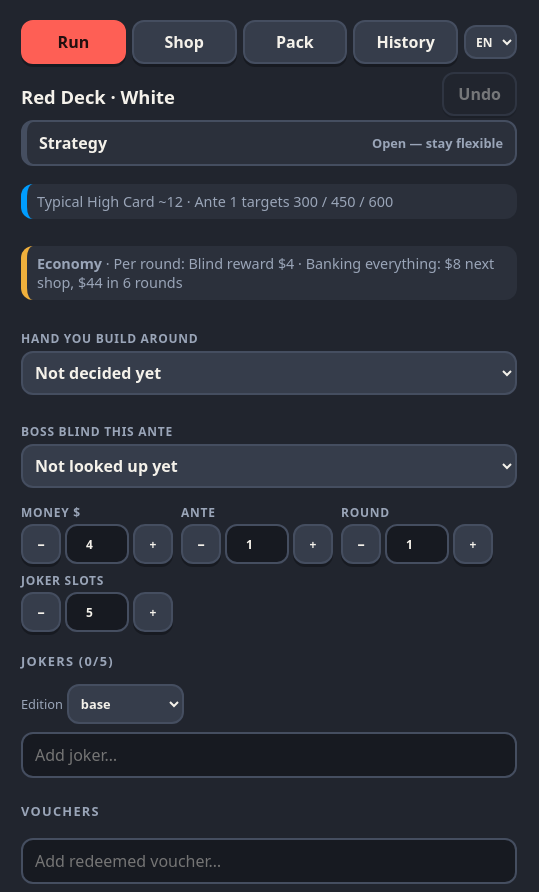
Test: disables purchases that would overdraw the run
This screenshot has width=539, height=892.
Click the button "Shop" at {"x": 184, "y": 42}, box 132,20 -> 237,64
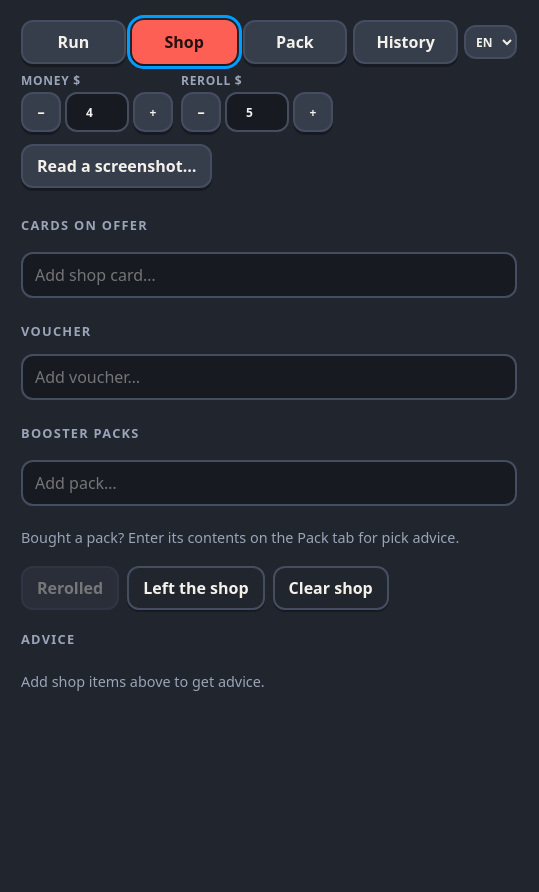
Type "blueprint" into the dropdown with placeholder "Add shop card…" at {"x": 269, "y": 275}, box 21,252 -> 517,298
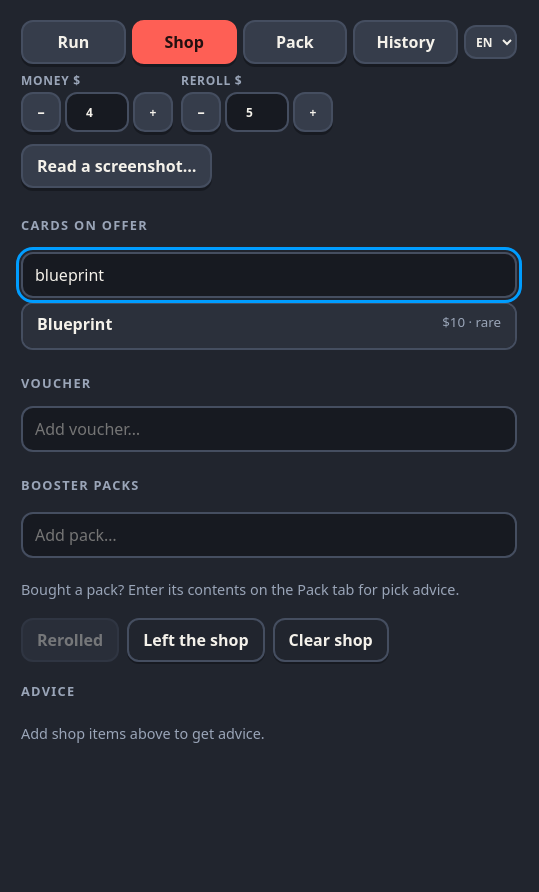
Click the button "Blueprint $10 · rare" at {"x": 75, "y": 324}, box 23,304 -> 515,348
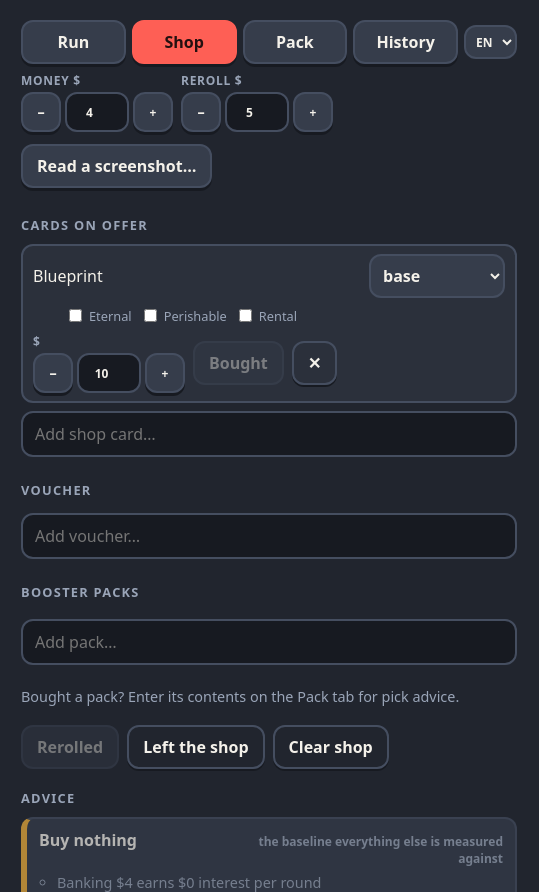
Expected: the button "Bought" is disabled, 193,341 -> 284,385
